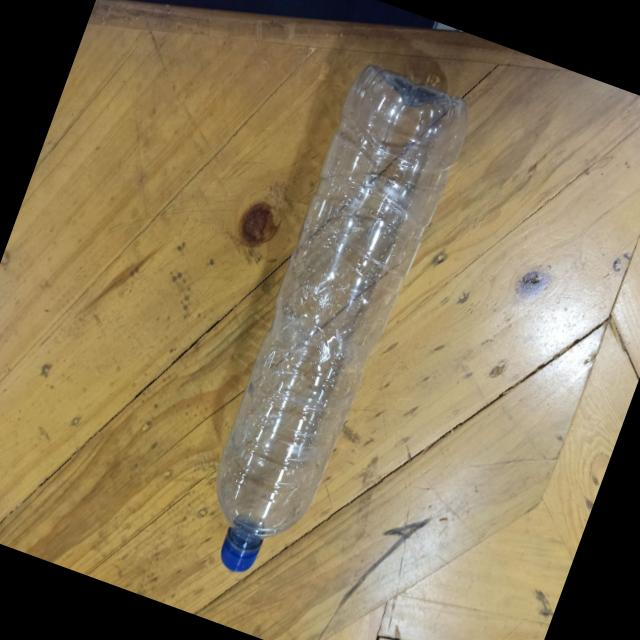BotolPlastik: (180, 59, 478, 597)
